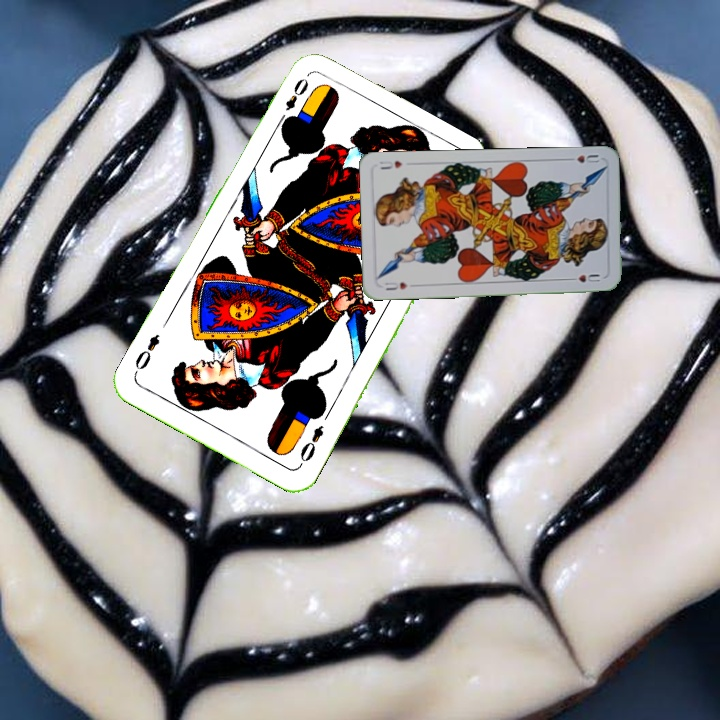EO: (274, 73, 311, 127), (295, 421, 327, 469)
HU: (562, 151, 602, 166), (381, 278, 410, 293)
